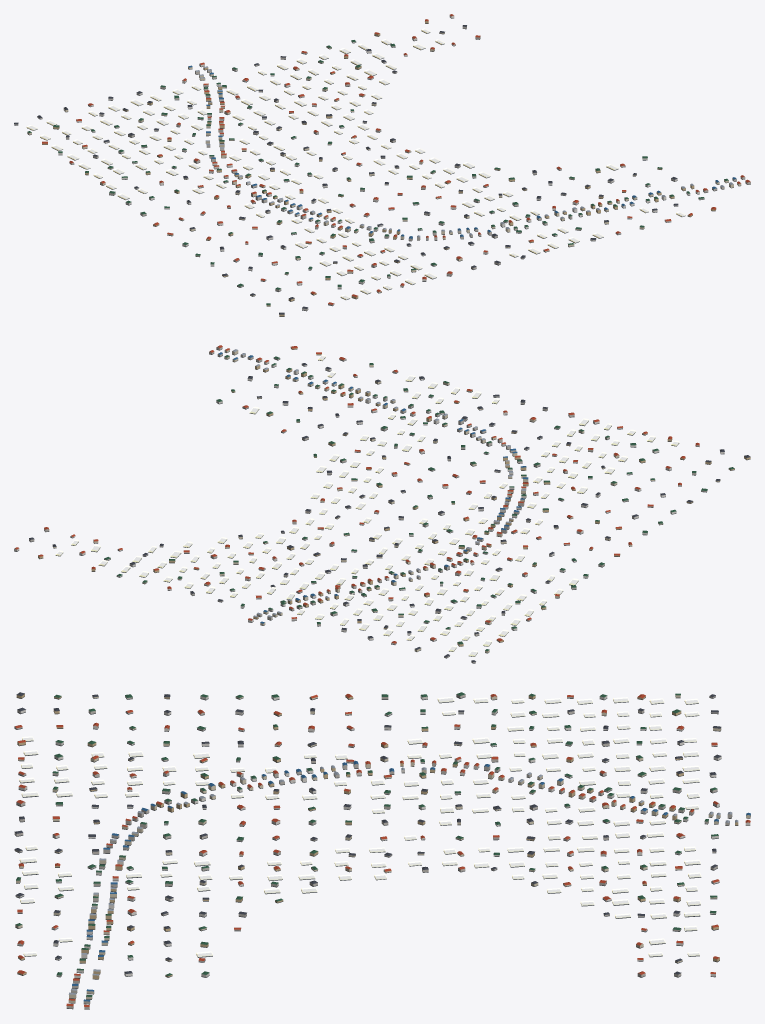
Rendered from buildings_T_W04_N03.glb.
3 views of the same model, one above another, from view 1: azimuth 30°, elevation 25°; view 2: azimuth 150°, elevation 25°; view 3: azimuth 270°, elevation 25° (orthographic). The views are drawn at different scales.
Visible parts, largest first — view 1: T_W04_N03_roofs_agri_greenhouse_arch, T_W04_N03_slope_seating_foundations, T_W04_N03_roofs_roof_terracotta_gable, T_W04_N03_walls_wall_pastel_sand_gray, T_W04_N03_roofs_roof_pine_green_hip, T_W04_N03_walls_wall_modern_warm_white, T_W04_N03_walls_wall_dalat_cream_stucco, T_W04_N03_walls_wall_french_ochre_villa, T_W04_N03_roofs_roof_slate_French_villa_hip; view 2: T_W04_N03_slope_seating_foundations, T_W04_N03_roofs_agri_greenhouse_arch, T_W04_N03_walls_wall_pastel_sand_gray, T_W04_N03_roofs_roof_terracotta_gable, T_W04_N03_roofs_roof_pine_green_hip, T_W04_N03_walls_wall_modern_warm_white, T_W04_N03_walls_wall_dalat_cream_stucco, T_W04_N03_walls_wall_french_ochre_villa, T_W04_N03_roofs_roof_slate_French_villa_hip; view 3: T_W04_N03_slope_seating_foundations, T_W04_N03_roofs_agri_greenhouse_arch, T_W04_N03_roofs_roof_terracotta_gable, T_W04_N03_walls_wall_pastel_sand_gray, T_W04_N03_roofs_roof_pine_green_hip, T_W04_N03_walls_wall_modern_warm_white, T_W04_N03_walls_wall_dalat_cream_stucco, T_W04_N03_walls_wall_french_ochre_villa, T_W04_N03_roofs_roof_slate_French_villa_hip, T_W04_N03_roofs_roof_highland_blue_gable, T_W04_N03_roofs_roof_zinc_silver_gable.
Part boxes in pixels (x1=…): T_W04_N03_roofs_agri_greenhouse_arch: x1=26, y1=28, x2=685, y2=299; T_W04_N03_slope_seating_foundations: x1=14, y1=17, x2=750, y2=316; T_W04_N03_roofs_roof_terracotta_gable: x1=42, y1=14, x2=750, y2=304; T_W04_N03_walls_wall_pastel_sand_gray: x1=14, y1=26, x2=750, y2=305; T_W04_N03_roofs_roof_pine_green_hip: x1=27, y1=40, x2=728, y2=305; T_W04_N03_walls_wall_modern_warm_white: x1=58, y1=15, x2=699, y2=310; T_W04_N03_walls_wall_dalat_cream_stucco: x1=27, y1=32, x2=741, y2=296; T_W04_N03_walls_wall_french_ochre_villa: x1=42, y1=21, x2=716, y2=316; T_W04_N03_roofs_roof_slate_French_villa_hip: x1=14, y1=25, x2=678, y2=314; T_W04_N03_slope_seating_foundations: x1=14, y1=348, x2=750, y2=663; T_W04_N03_roofs_agri_greenhouse_arch: x1=55, y1=354, x2=679, y2=656; T_W04_N03_walls_wall_pastel_sand_gray: x1=29, y1=347, x2=707, y2=663; T_W04_N03_roofs_roof_terracotta_gable: x1=15, y1=345, x2=699, y2=643; T_W04_N03_roofs_roof_pine_green_hip: x1=104, y1=355, x2=734, y2=651; T_W04_N03_walls_wall_modern_warm_white: x1=14, y1=361, x2=724, y2=644; T_W04_N03_walls_wall_dalat_cream_stucco: x1=52, y1=349, x2=720, y2=652; T_W04_N03_walls_wall_french_ochre_villa: x1=38, y1=347, x2=750, y2=646; T_W04_N03_roofs_roof_slate_French_villa_hip: x1=29, y1=363, x2=750, y2=662; T_W04_N03_slope_seating_foundations: x1=14, y1=696, x2=750, y2=1009; T_W04_N03_roofs_agri_greenhouse_arch: x1=19, y1=696, x2=701, y2=956; T_W04_N03_roofs_roof_terracotta_gable: x1=15, y1=694, x2=750, y2=1006; T_W04_N03_walls_wall_pastel_sand_gray: x1=14, y1=694, x2=732, y2=1009; T_W04_N03_roofs_roof_pine_green_hip: x1=15, y1=692, x2=718, y2=996; T_W04_N03_walls_wall_modern_warm_white: x1=15, y1=695, x2=750, y2=977; T_W04_N03_walls_wall_dalat_cream_stucco: x1=15, y1=695, x2=750, y2=1003; T_W04_N03_walls_wall_french_ochre_villa: x1=16, y1=694, x2=738, y2=979; T_W04_N03_roofs_roof_slate_French_villa_hip: x1=14, y1=692, x2=721, y2=974; T_W04_N03_roofs_roof_highland_blue_gable: x1=72, y1=760, x2=750, y2=1001; T_W04_N03_roofs_roof_zinc_silver_gable: x1=68, y1=765, x2=738, y2=994.
Size of the model in its own units: 1841 by 25.09 by 1816.
